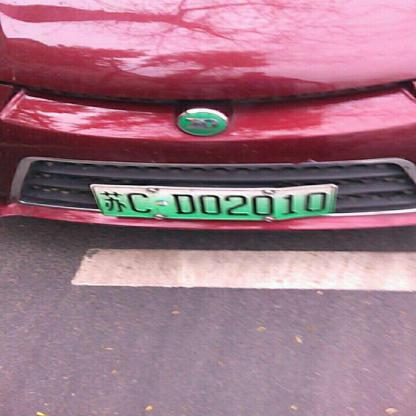lp: (89, 182, 336, 215)
